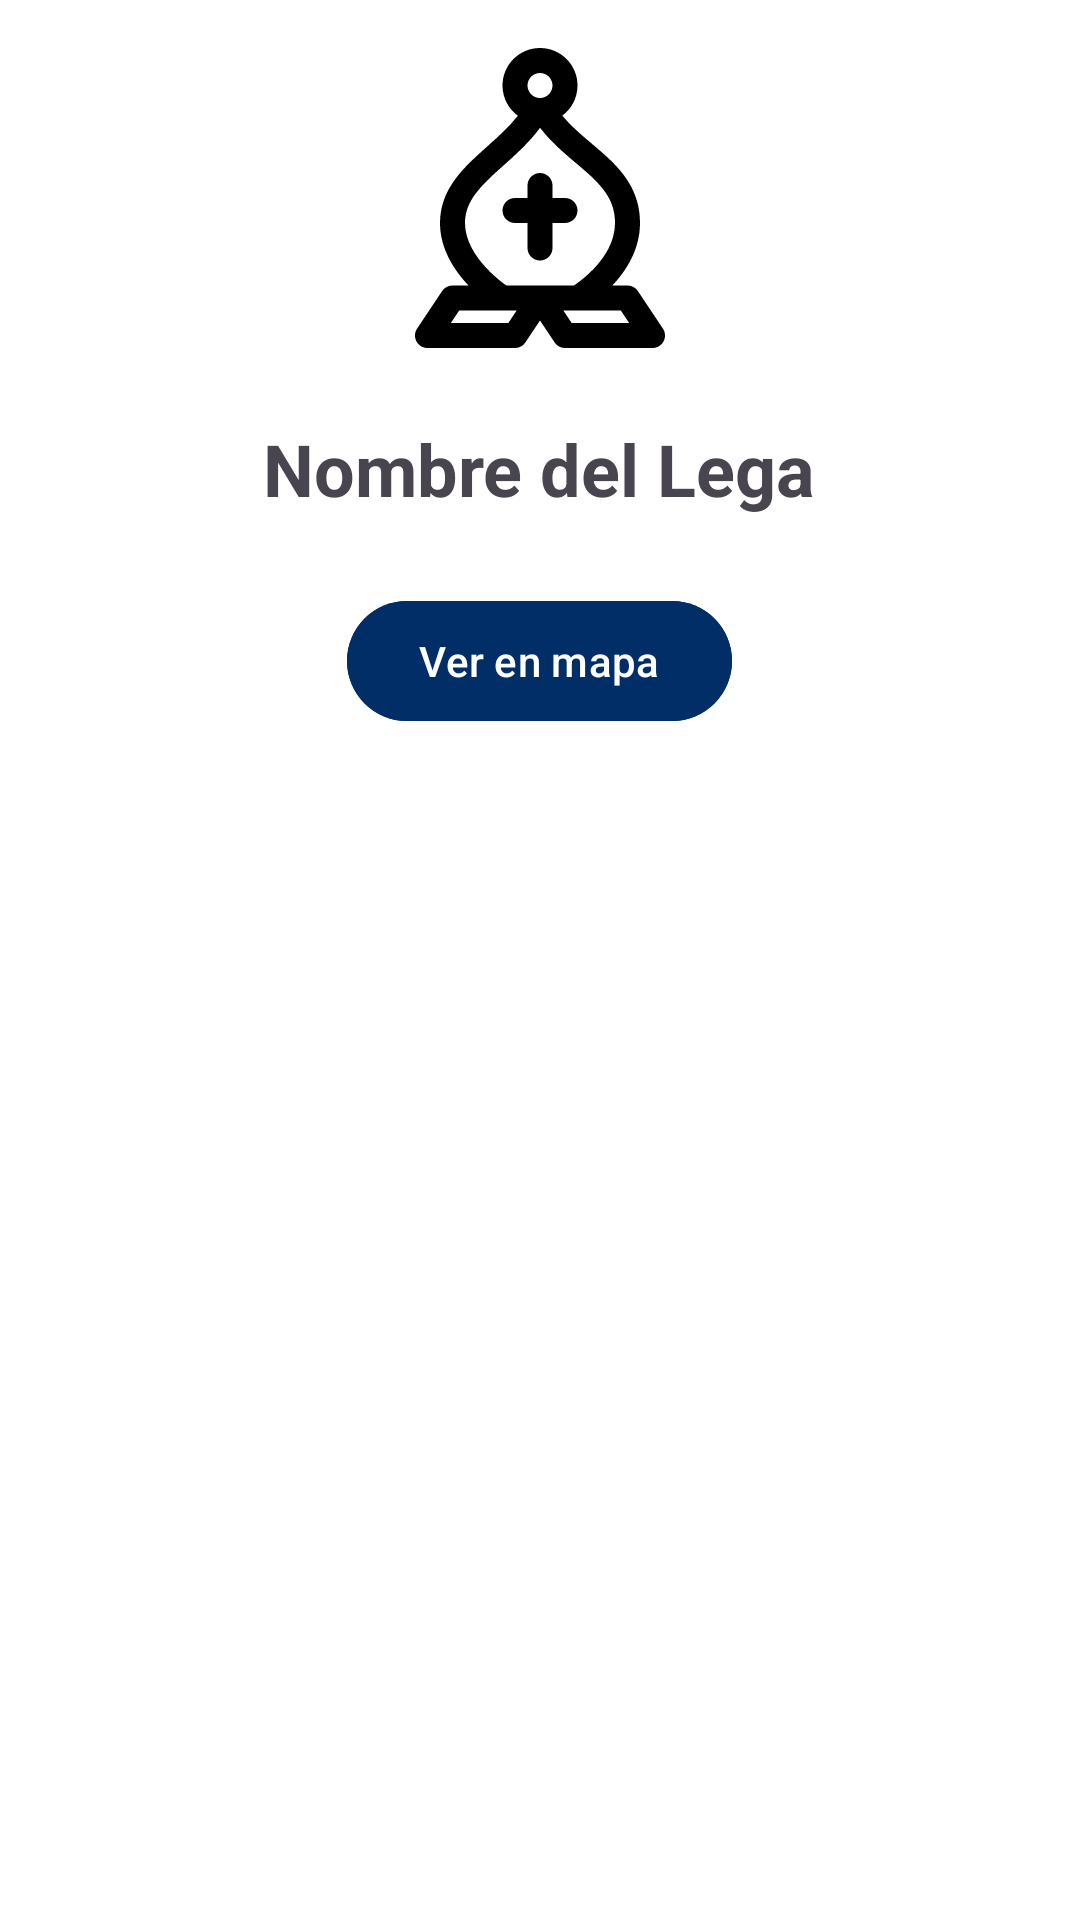

Icon bounding boxes for this 1080w x 1920h phone screenshot, format [x1,y1,x2,y2]:
Ícono del Lega: [415,48,665,348]
